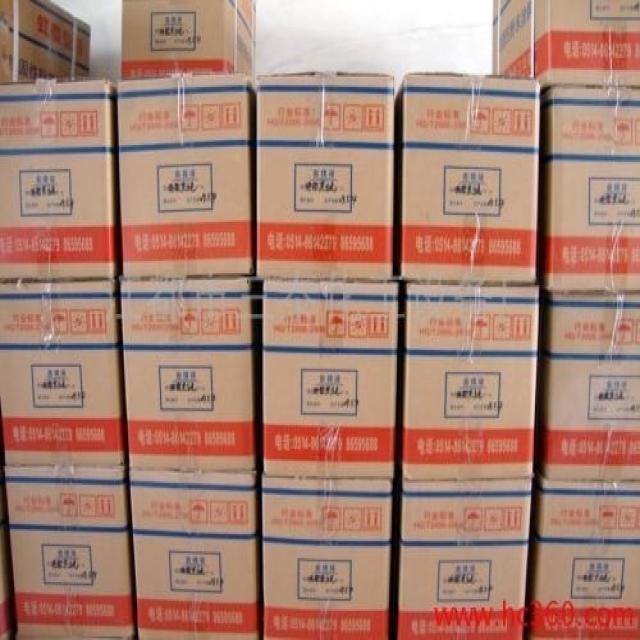box: (393, 75, 540, 281), (116, 73, 258, 279), (257, 69, 393, 279), (396, 280, 540, 478), (121, 276, 264, 470), (263, 276, 400, 478), (0, 274, 130, 466), (0, 75, 121, 280), (3, 460, 137, 638), (389, 478, 533, 638), (130, 468, 264, 638), (263, 477, 393, 638), (537, 85, 639, 290), (534, 288, 639, 480), (524, 470, 639, 638), (492, 0, 639, 91), (121, 0, 257, 79)
